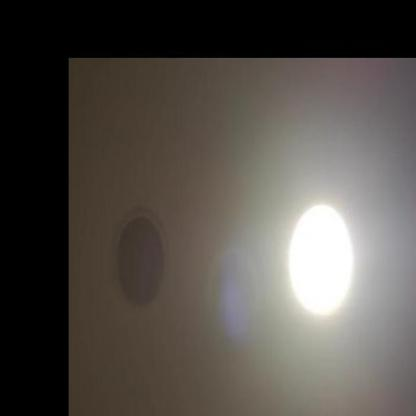light_off: (111, 173, 186, 327)
